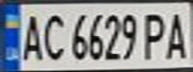2: (103, 9, 124, 61)
6: (66, 9, 90, 62), (84, 10, 106, 62)
9: (118, 9, 142, 61)
A: (160, 7, 193, 61), (15, 8, 45, 62)
C: (39, 9, 69, 62)
P: (139, 9, 172, 61)
